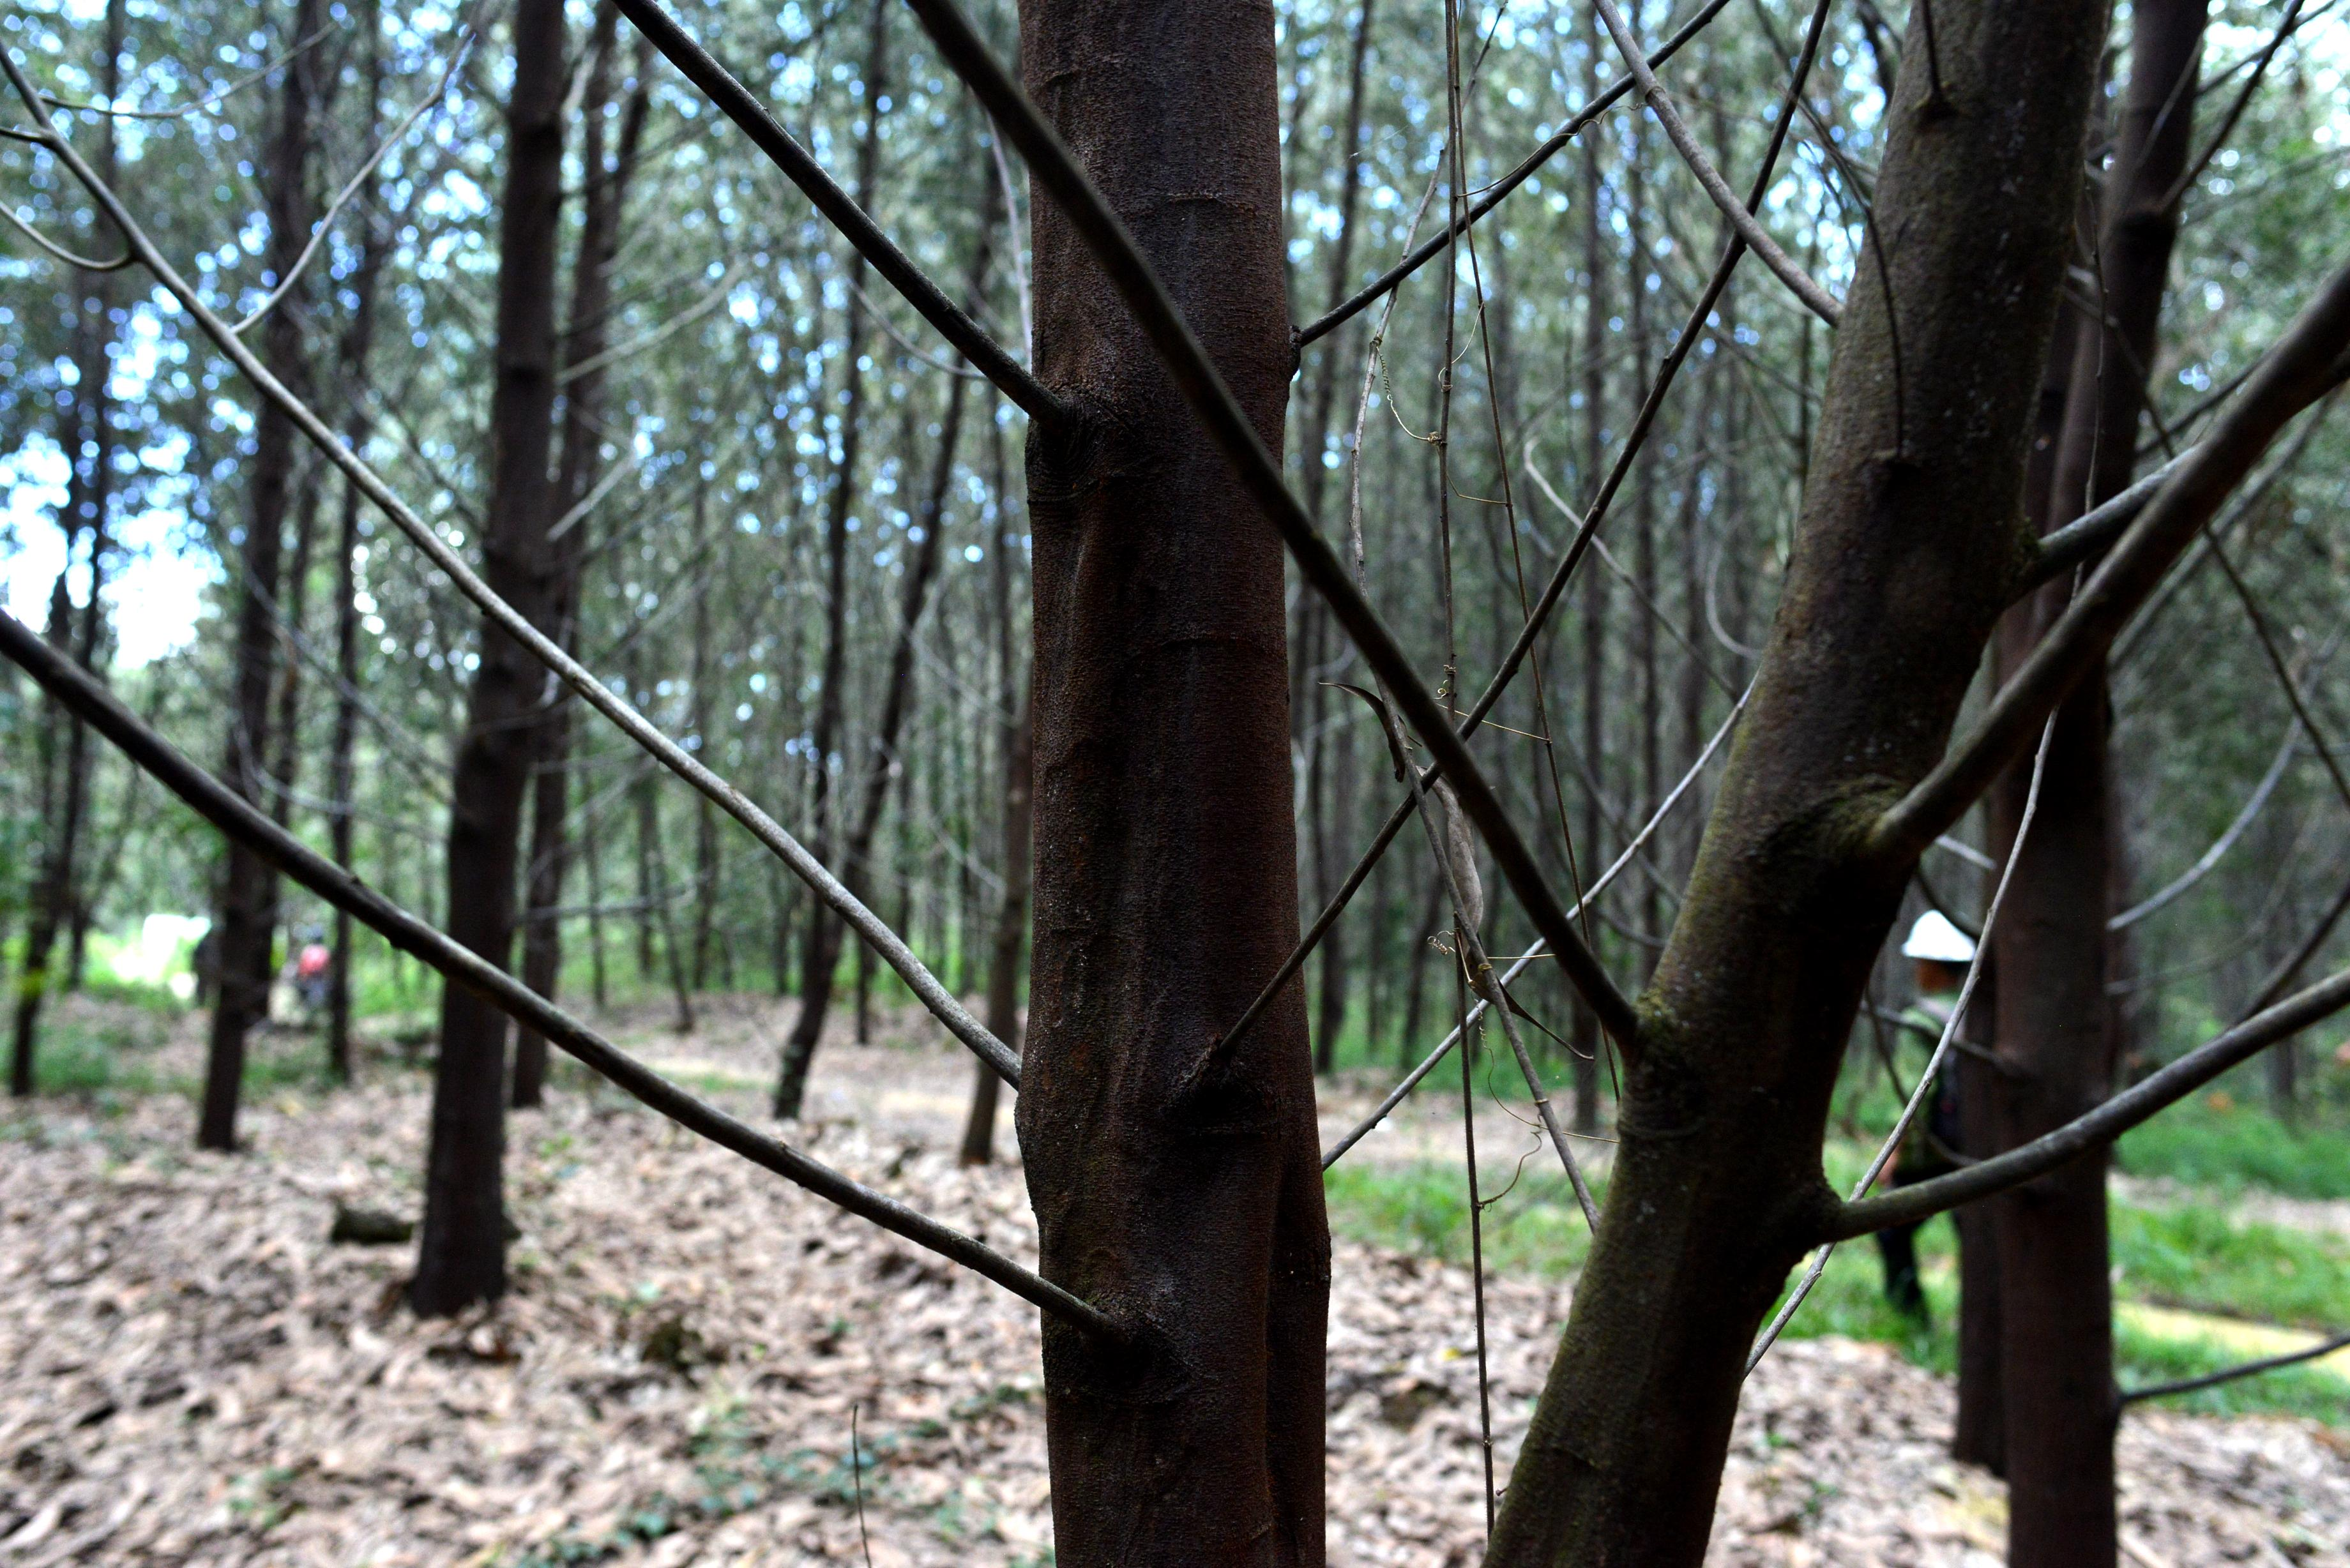Stem Deformation: (1006, 0, 1346, 1552)
